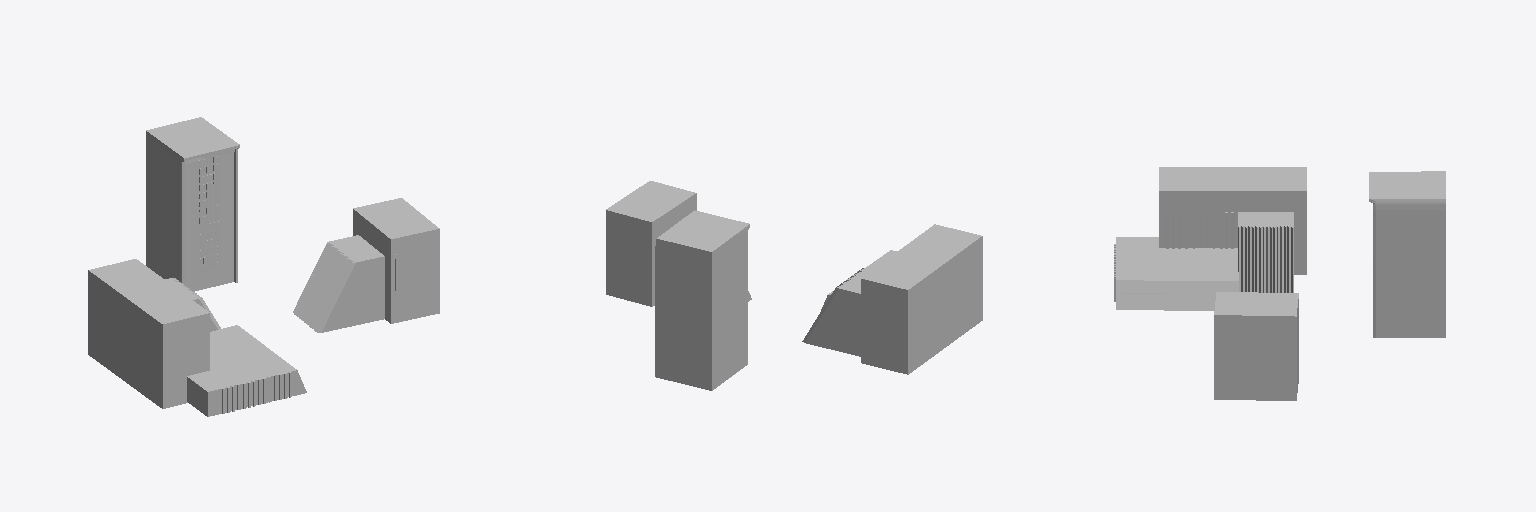
The model's file is alcaldia .obj.
The picture shows the model from 3 angles: view 1: azimuth 30°, elevation 25°; view 2: azimuth 150°, elevation 25°; view 3: azimuth 270°, elevation 25°; orthographic projection.
Parts seen in each view (by area): view 1: ALCALDIA__Cubo; view 2: ALCALDIA__Cubo; view 3: ALCALDIA__Cubo.
Boxes of the visible parts, x1,y1,x2,y2 form: ALCALDIA__Cubo: [88, 117, 439, 416]; ALCALDIA__Cubo: [606, 181, 982, 390]; ALCALDIA__Cubo: [1114, 167, 1445, 400].
Bounding box in the file's own units: 646 × 286 × 603.